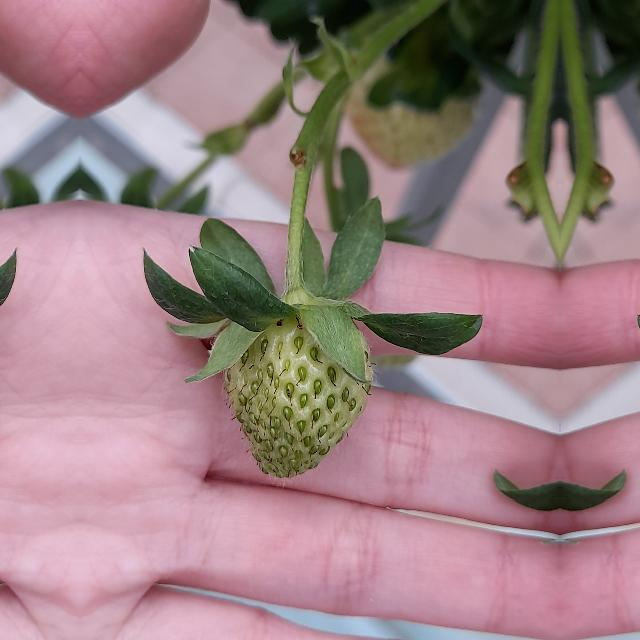Health_25: (224, 313, 370, 477)
